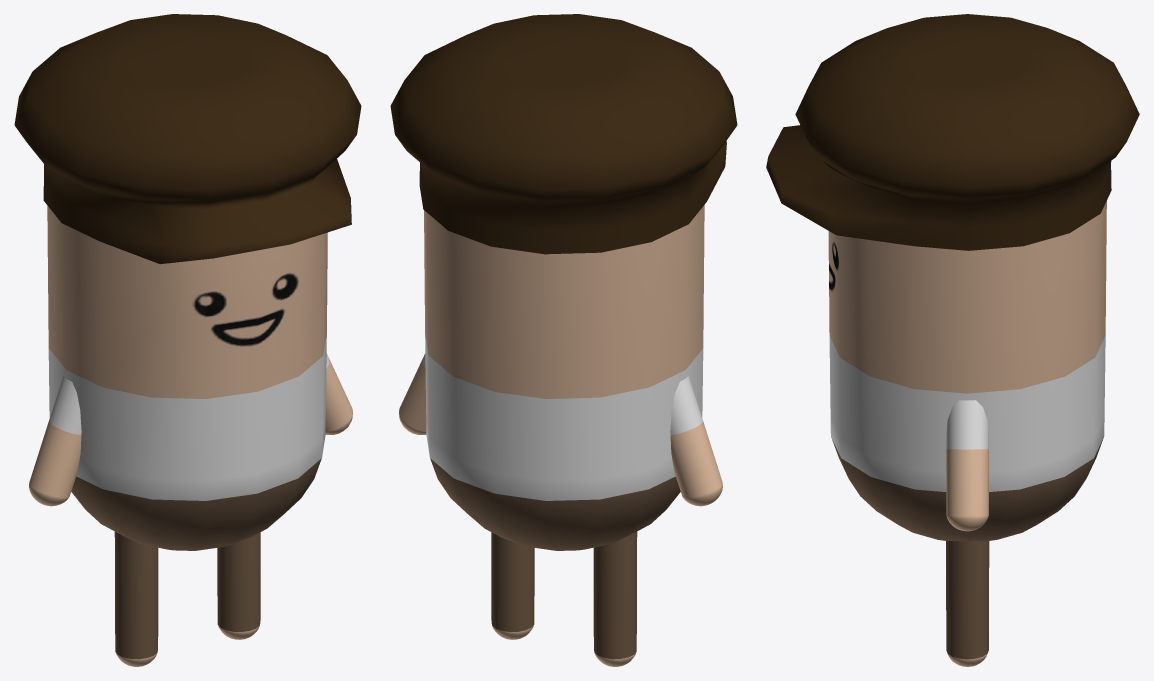
Rendered from friend 2.fbx.
3 views of the same model, side by side, from view 1: azimuth 30°, elevation 25°; view 2: azimuth 150°, elevation 25°; view 3: azimuth 270°, elevation 25° (orthographic).
Parts seen in each view (by area): view 1: police; view 2: police; view 3: police.
Boxes of the visible parts, <box> form: police: <box>14,14,361,666</box>; police: <box>390,14,737,666</box>; police: <box>766,14,1139,666</box>.
Size of the model in its own units: 2.71 by 4.81 by 2.8.
Materials: 5 (1 with a texture image).
